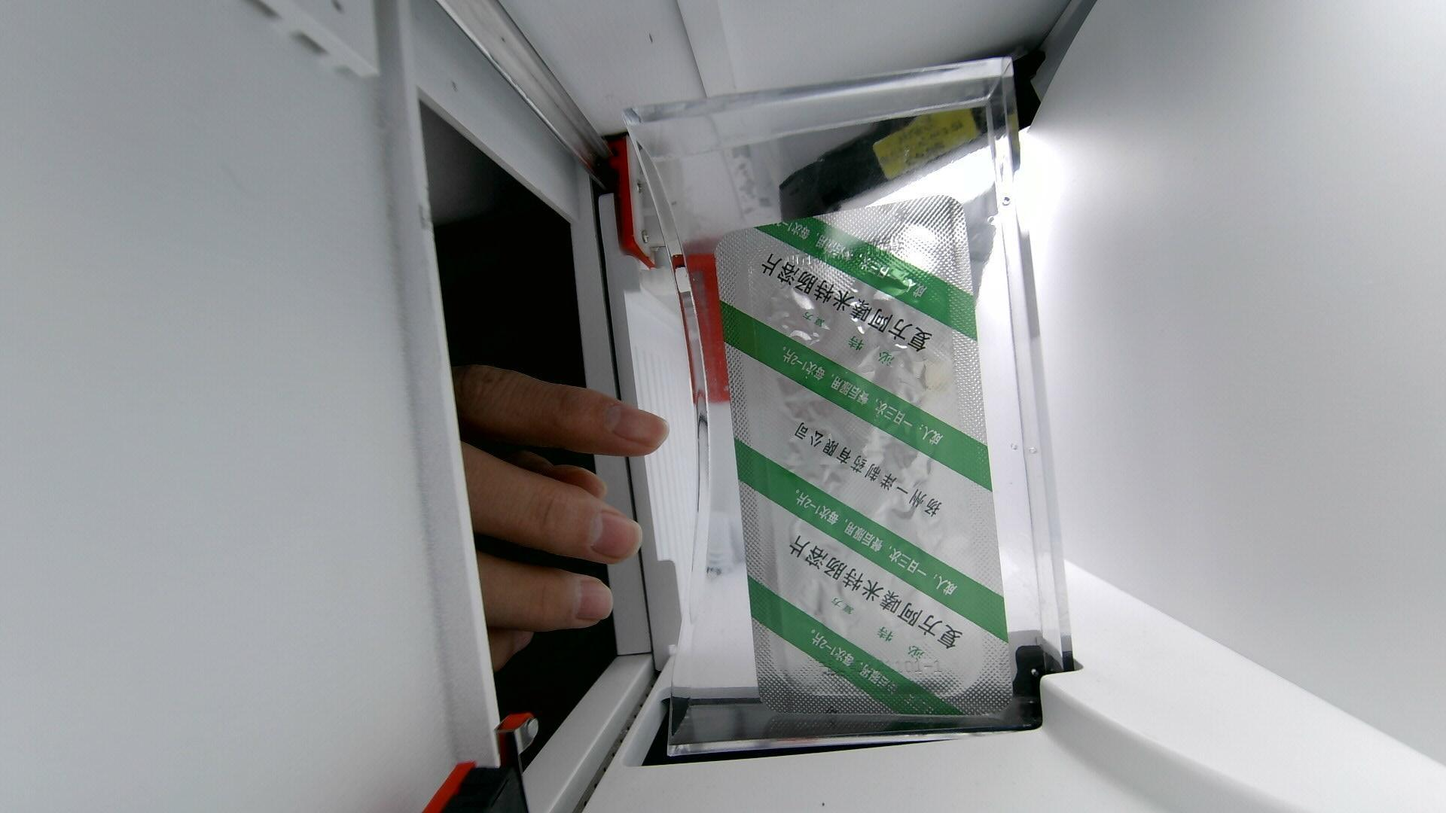Pill Back: (843, 251, 931, 335), (867, 493, 950, 566), (759, 271, 837, 344), (888, 572, 964, 643), (778, 428, 853, 498), (865, 419, 946, 480), (857, 346, 935, 406), (798, 576, 871, 638), (770, 359, 844, 416), (789, 512, 853, 568)
